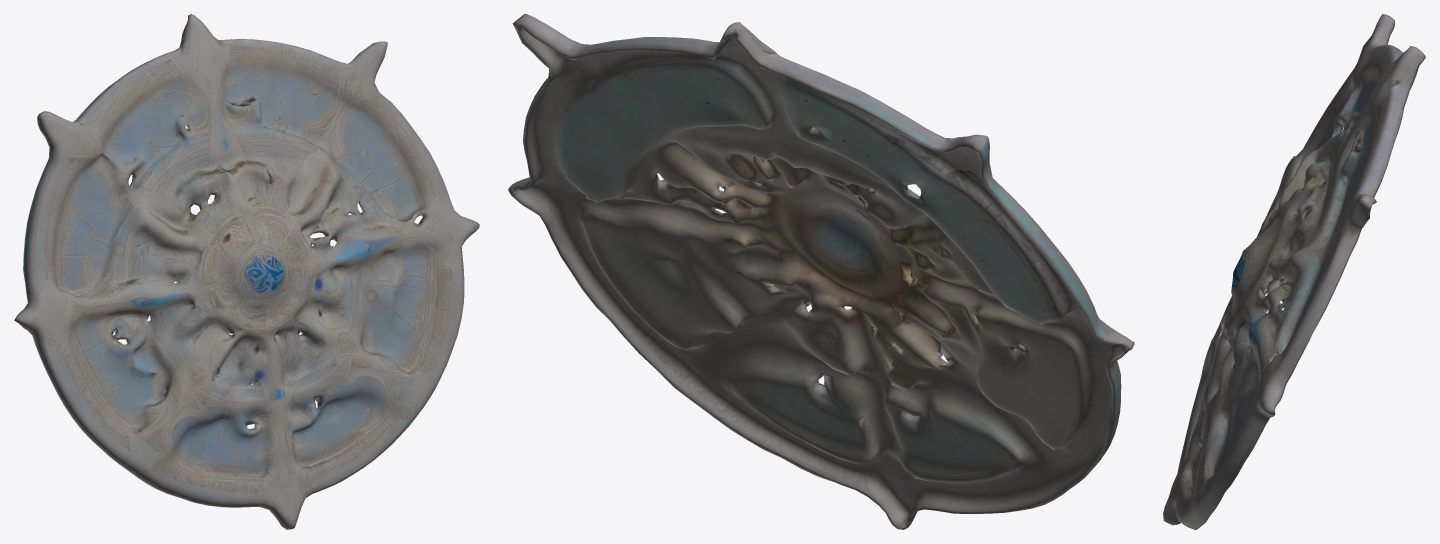
The model's file is Mithril Shield.glb.
The picture shows the model from 3 angles, left to right: view 1: azimuth 30°, elevation 25°; view 2: azimuth 150°, elevation 25°; view 3: azimuth 270°, elevation 25°; orthographic projection. The views are drawn at different scales.
Parts seen in each view (by area): view 1: file1; view 2: file1; view 3: file1.
Part boxes in pixels (x1,y1,x2,y2): file1: (14,14,479,529); file1: (508,14,1134,529); file1: (1163,14,1425,529).
Bounding box in the file's own units: 2 × 1.83 × 0.9031.
1 material, 1 textured.
